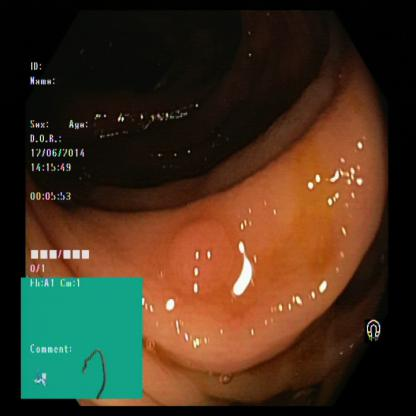Labels: (25, 53, 99, 276), (21, 277, 144, 401), (363, 315, 390, 350)
Polyps: (174, 227, 244, 301)
